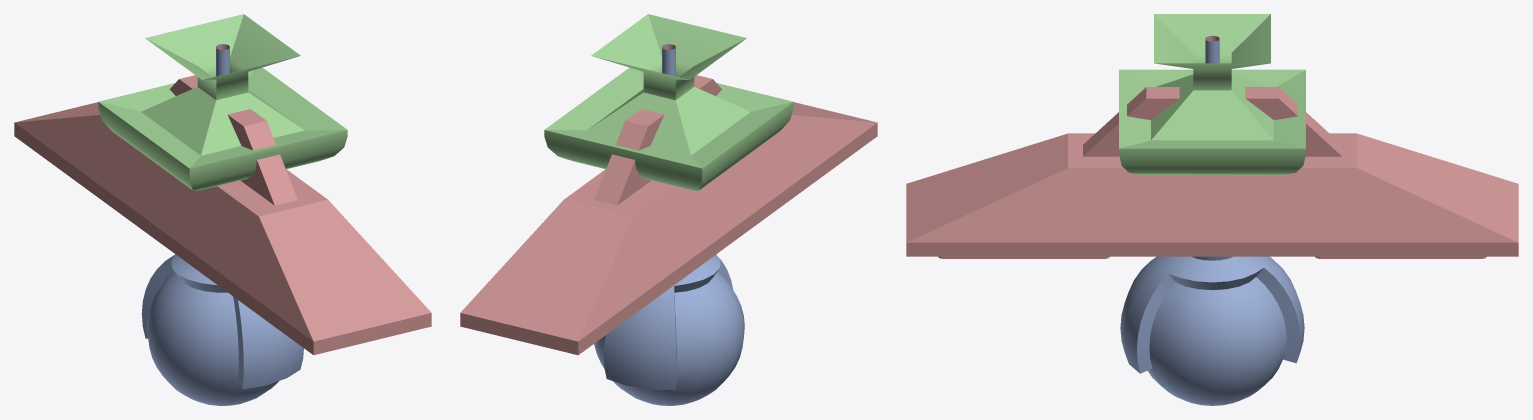
The model's file is Lights01Lights_MESH_GRP.fbx.
The picture shows the model from 3 angles, left to right: view 1: azimuth 30°, elevation 25°; view 2: azimuth 150°, elevation 25°; view 3: azimuth 270°, elevation 25°; orthographic projection. The views are drawn at different scales.
Visible parts, largest first — view 1: Lights02_Body, Lights03_Body, Lights01_Body; view 2: Lights02_Body, Lights03_Body, Lights01_Body; view 3: Lights02_Body, Lights03_Body, Lights01_Body.
Boxes of the visible parts, x1,y1,x2,y2 form: Lights02_Body: [14, 45, 431, 355]; Lights03_Body: [98, 14, 347, 190]; Lights01_Body: [141, 44, 303, 405]; Lights02_Body: [460, 45, 877, 355]; Lights03_Body: [544, 14, 793, 190]; Lights01_Body: [594, 44, 744, 405]; Lights02_Body: [906, 36, 1518, 258]; Lights03_Body: [1119, 14, 1305, 174]; Lights01_Body: [1120, 35, 1304, 405].
Bounding box in the file's own units: 26.94 × 57.26 × 88.29.
